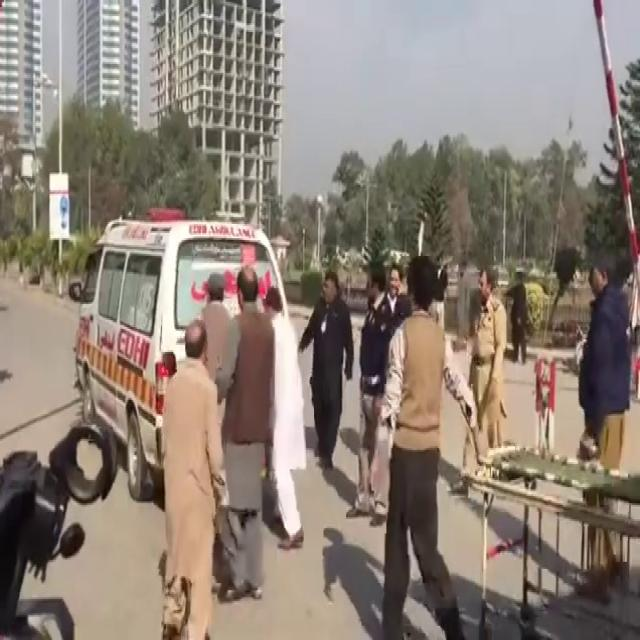ambulance: (81, 212, 305, 461)
